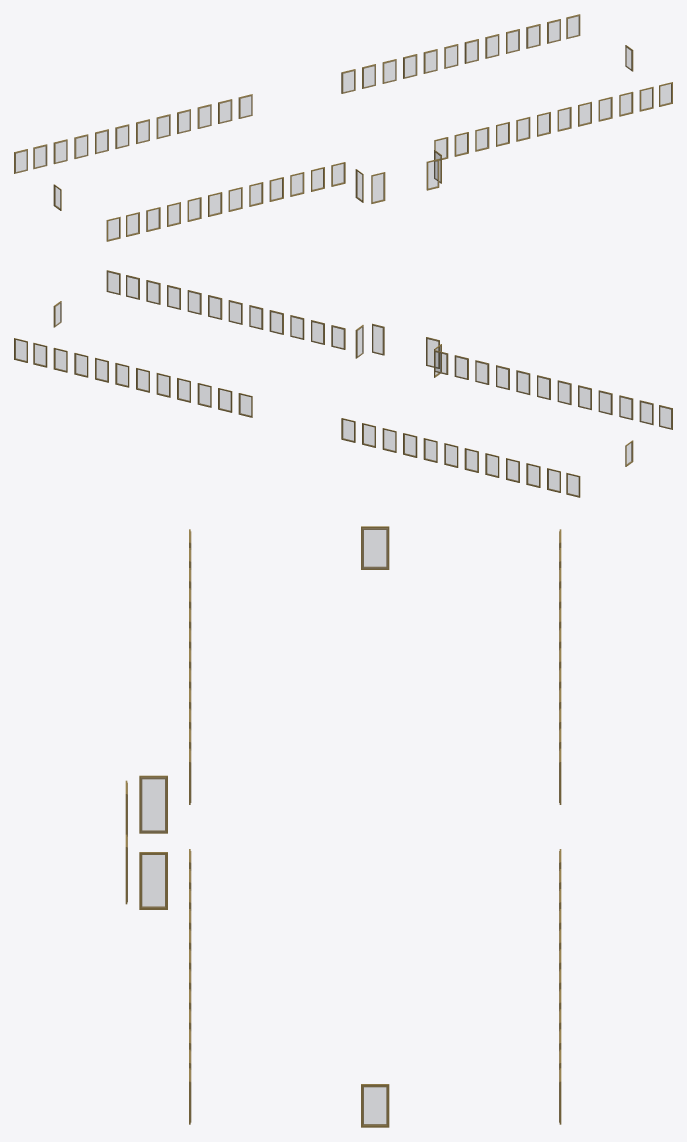
The model's file is 231110AC11-Institute-Var-2-IFC_Erdgeschoss_IfcWindow.dae.
3 views of the same model, one above another, from view 1: azimuth 30°, elevation 25°; view 2: azimuth 150°, elevation 25°; view 3: azimuth 270°, elevation 25° (orthographic). The views are drawn at different scales.
Visible parts, largest first — view 1: 0KqFIy5jL1Mgh2ggQ4WLch, 2UjUodKnf77PmcAVpITSgL; view 2: 2UjUodKnf77PmcAVpITSgL; view 3: 12ErTRo_9EmBI9cF9PJCvF, 2S05fJwurB0AsobKzEqBs1, 0HtsZ3YcbDMwJN3vvrSgK9, 1$wm4f6k99XRQrMNEvL_1P.
Part boxes in pixels (left/top/right/bottom): 0KqFIy5jL1Mgh2ggQ4WLch: left=371, top=172, right=385, bottom=203; 2UjUodKnf77PmcAVpITSgL: left=426, top=159, right=439, bottom=190; 2UjUodKnf77PmcAVpITSgL: left=372, top=323, right=384, bottom=355; 12ErTRo_9EmBI9cF9PJCvF: left=139, top=775, right=167, bottom=833; 2S05fJwurB0AsobKzEqBs1: left=139, top=852, right=167, bottom=909; 0HtsZ3YcbDMwJN3vvrSgK9: left=361, top=1084, right=389, bottom=1127; 1$wm4f6k99XRQrMNEvL_1P: left=361, top=526, right=389, bottom=569.
Size of the model in its own units: 41.77 by 13.77 by 2.3.
